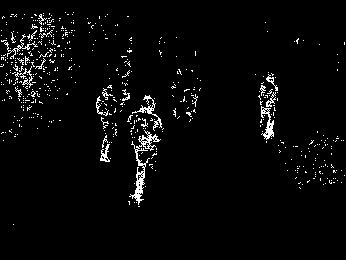person: (131, 94, 163, 202), (92, 80, 115, 167), (257, 68, 282, 143)
